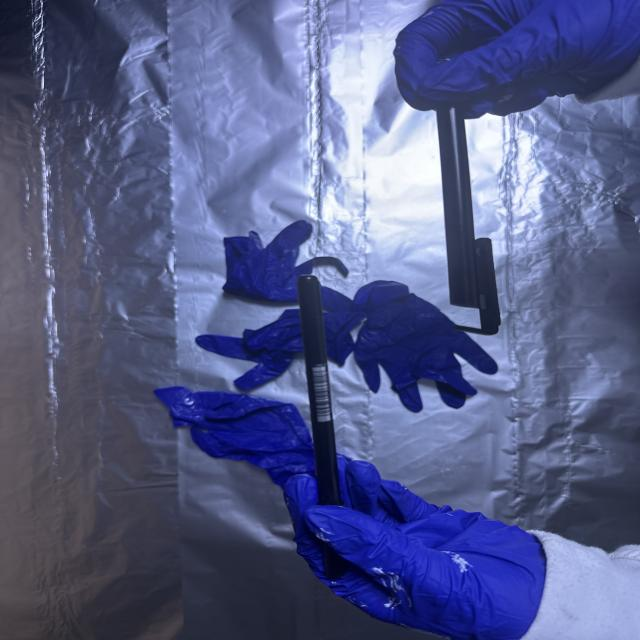gloves_contaminated: (283, 460, 546, 640), (396, 0, 640, 115)
